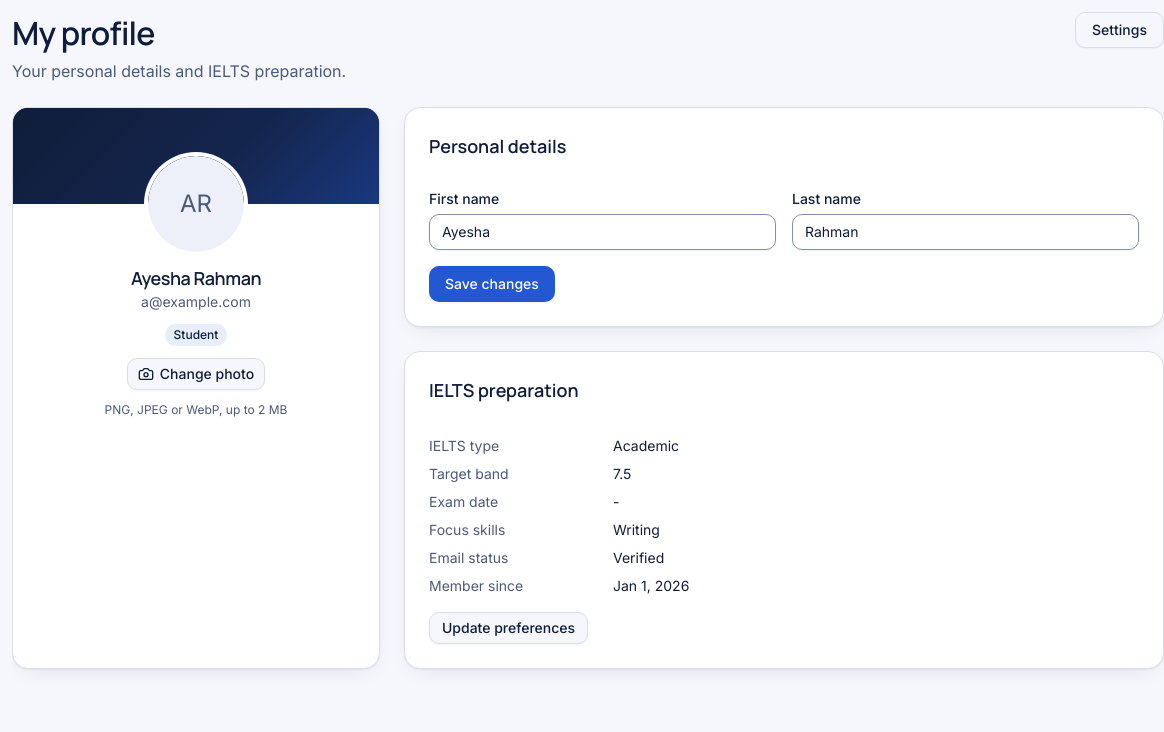
Scenario: profile › validates required names
The image size is (1164, 732).
Clear the field labelled "First name". click: (602, 232)
box: x1=429 y1=214 x2=776 y2=250
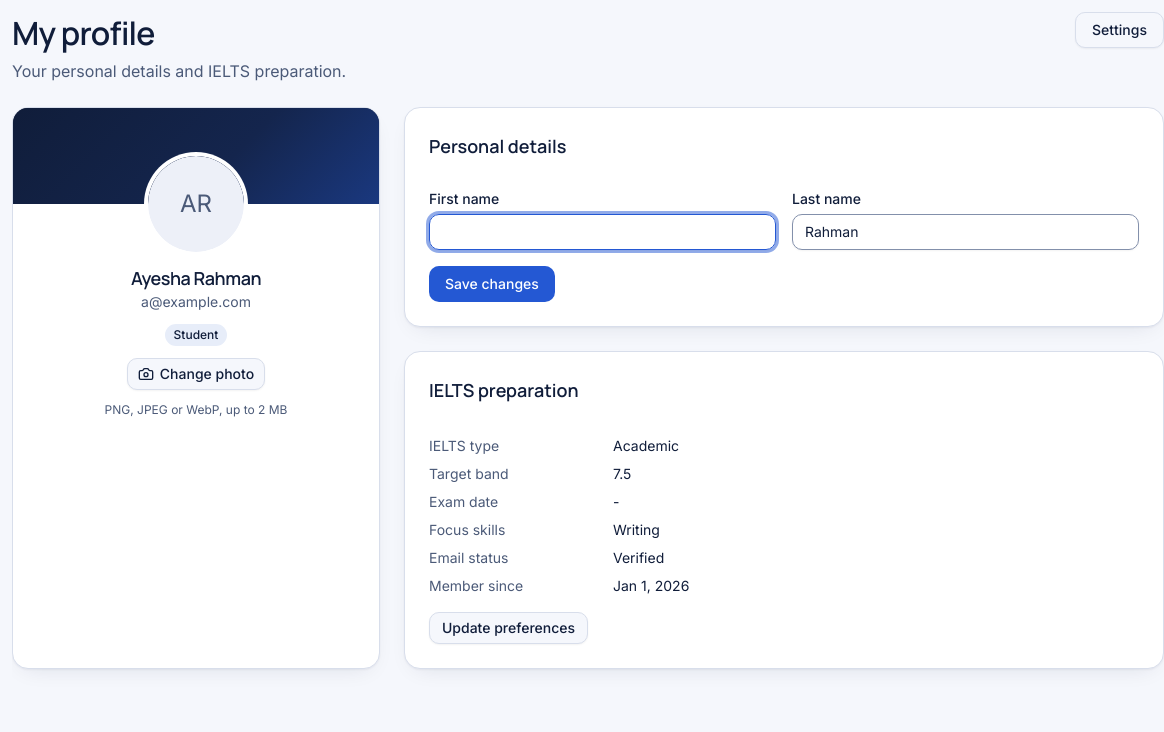
Click the button "Save changes". click: (492, 284)
box: x1=429 y1=266 x2=555 y2=302
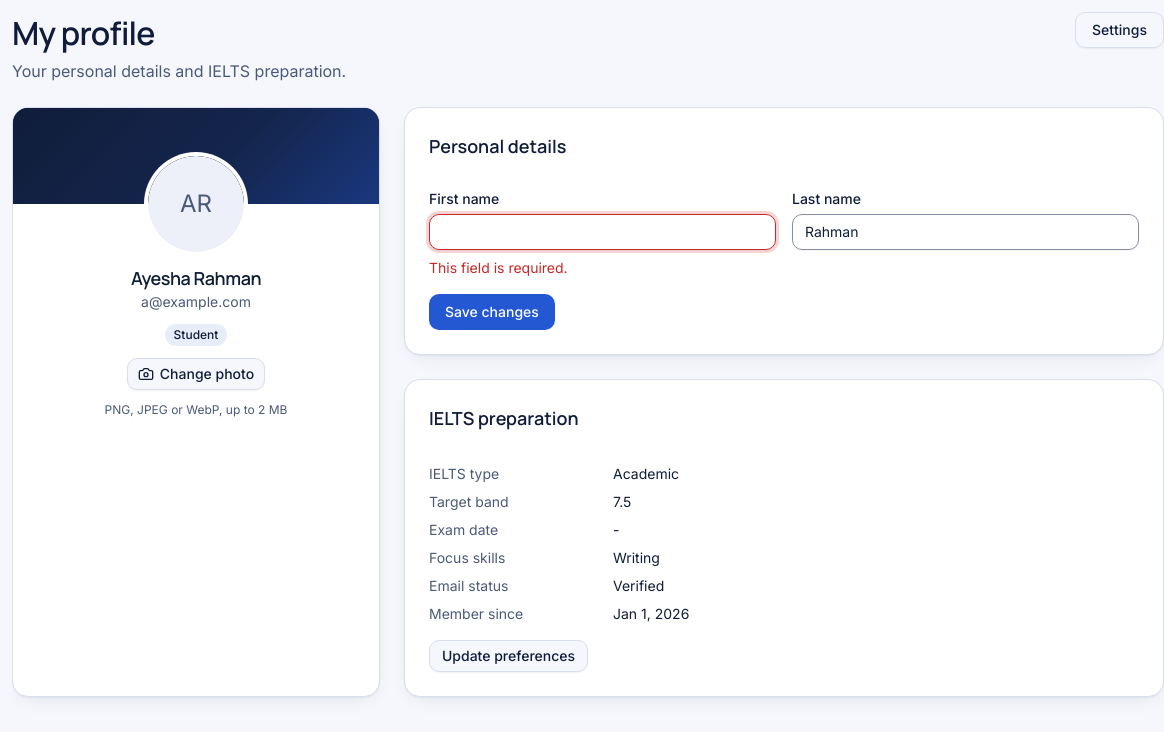
Now the text "This field is required." is shown, box x1=429 y1=259 x2=568 y2=276
